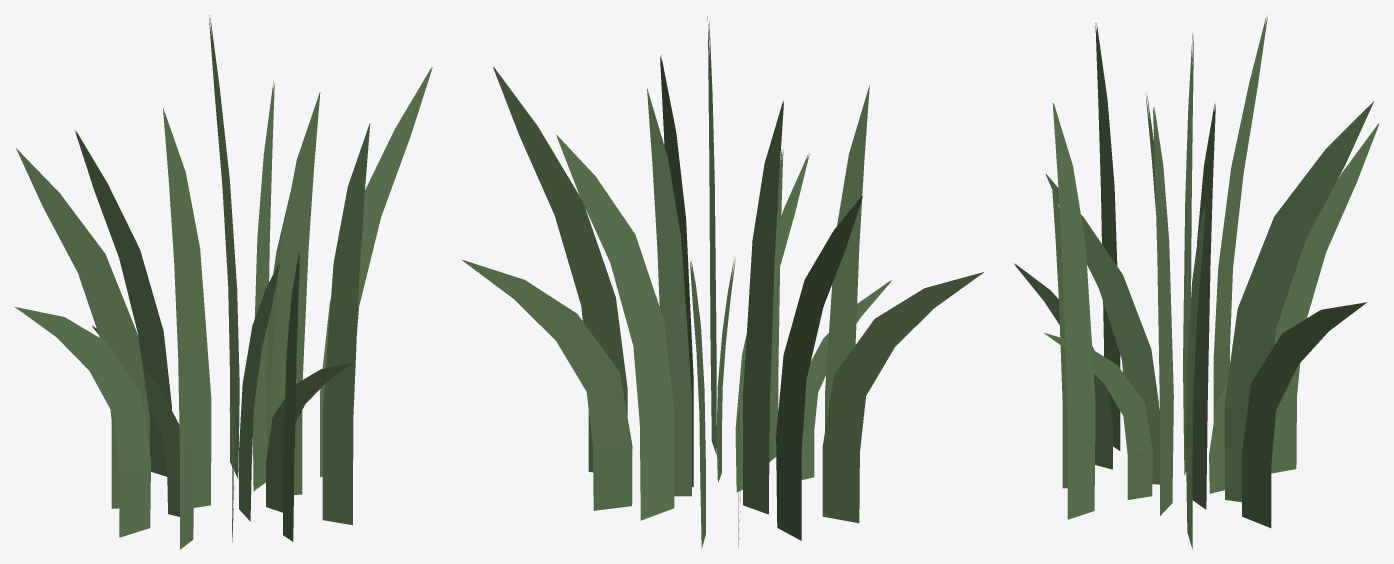
File: Grass_02.fbx
3 views of the same model, side by side, from view 1: azimuth 30°, elevation 25°; view 2: azimuth 150°, elevation 25°; view 3: azimuth 270°, elevation 25° (orthographic). The views are drawn at different scales.
Visible parts, largest first — view 1: Grass_02; view 2: Grass_02; view 3: Grass_02.
Boxes of the visible parts, x1,y1,x2,y2 form: Grass_02: [14, 15, 432, 549]; Grass_02: [461, 16, 983, 548]; Grass_02: [1014, 15, 1379, 548].
Size of the model in its own units: 18.64 by 16.99 by 12.68.
